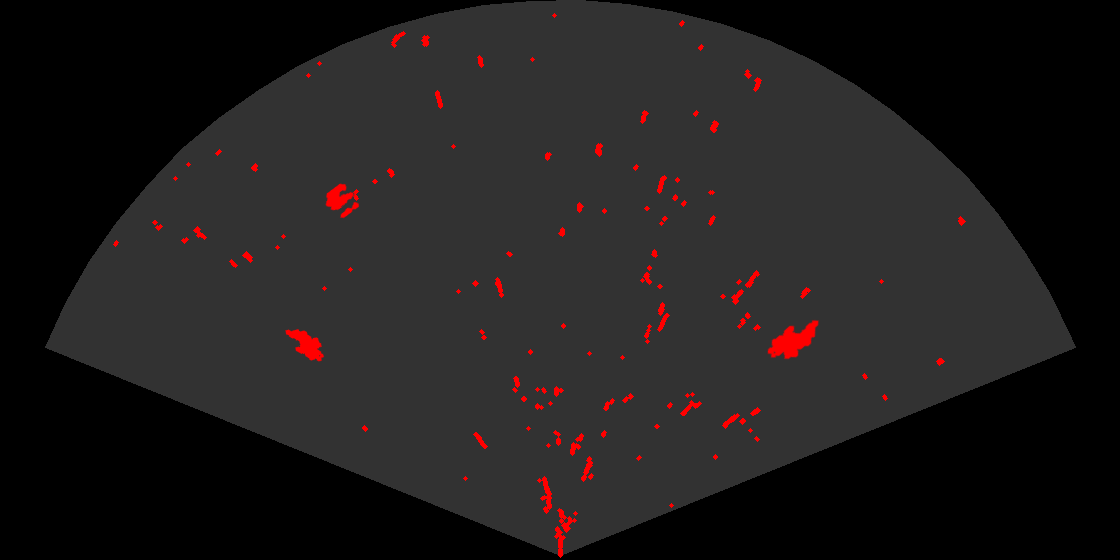AUV: (766, 318, 821, 361), (284, 327, 326, 363)
ball: (324, 182, 361, 220)
